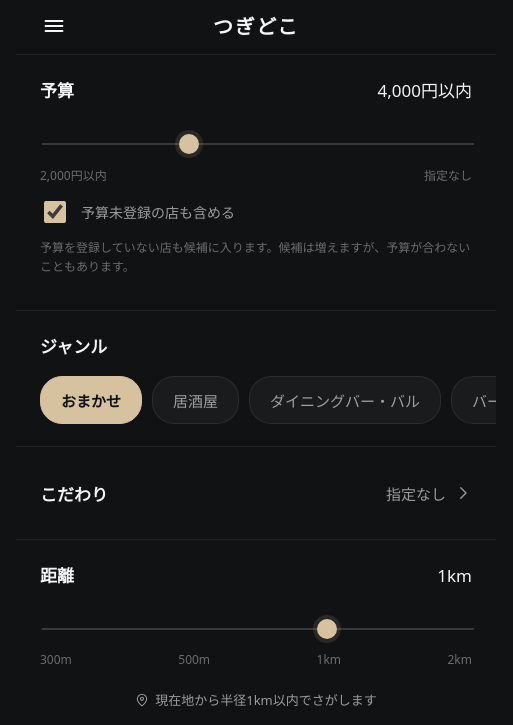
Test case: トップ画面 › こだわりを開閉でき、選択件数を表示する
This screenshot has width=513, height=725.
Check: the text "指定なし" is shown, box x1=386 y1=483 x2=472 y2=504
Click the text "こだわり". click: (74, 493)
box: x1=40 y1=481 x2=108 y2=506
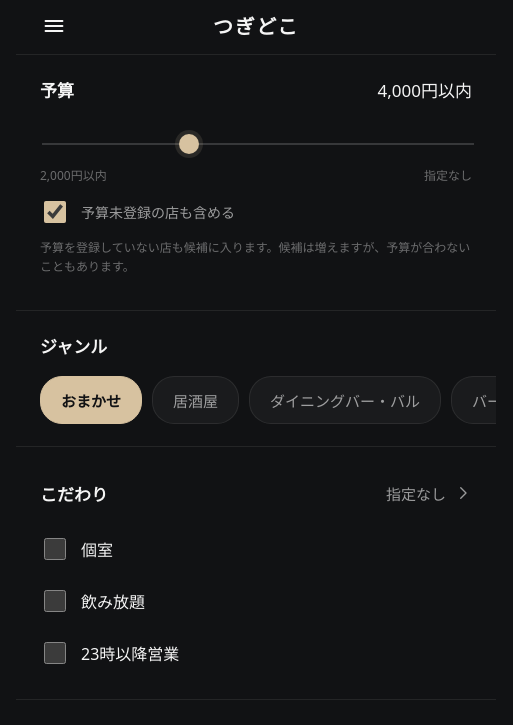
Click the checkbox labelled "個室". click: (55, 549)
box: x1=44 y1=538 x2=66 y2=560
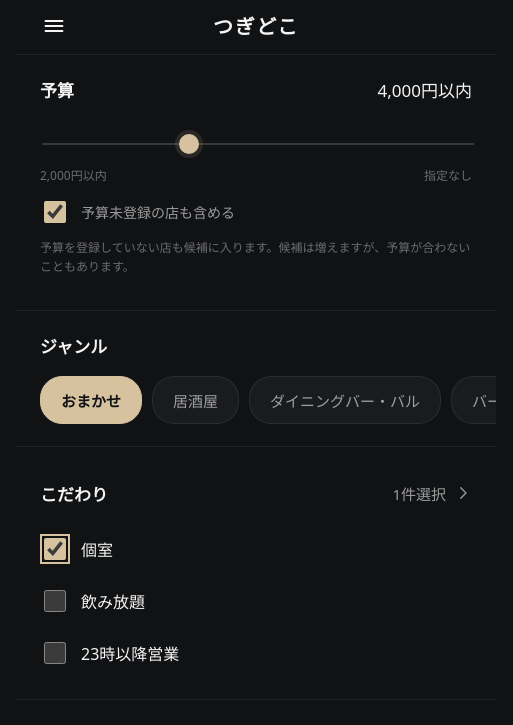
Check: the text "1件選択" is shown, box x1=392 y1=483 x2=472 y2=504
